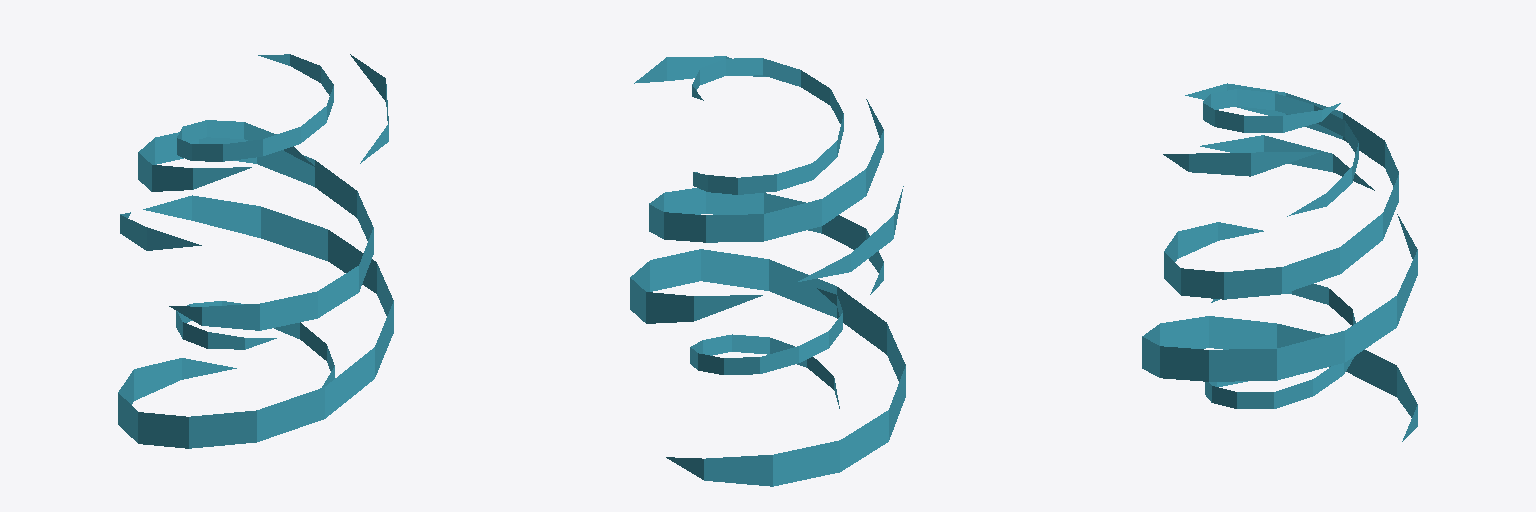
Rendered from SpaceStorm.obj.
3 views of the same model, side by side, from view 1: azimuth 30°, elevation 25°; view 2: azimuth 150°, elevation 25°; view 3: azimuth 270°, elevation 25° (orthographic).
Visible parts, largest first — view 1: Plane001; view 2: Plane001; view 3: Plane001.
Boxes of the visible parts, box(x1,y1,x2,y2) form: Plane001: box(118, 54, 393, 448); Plane001: box(630, 56, 905, 486); Plane001: box(1142, 83, 1417, 441).
Bounding box in the file's own units: 99.24 × 137 × 99.22.